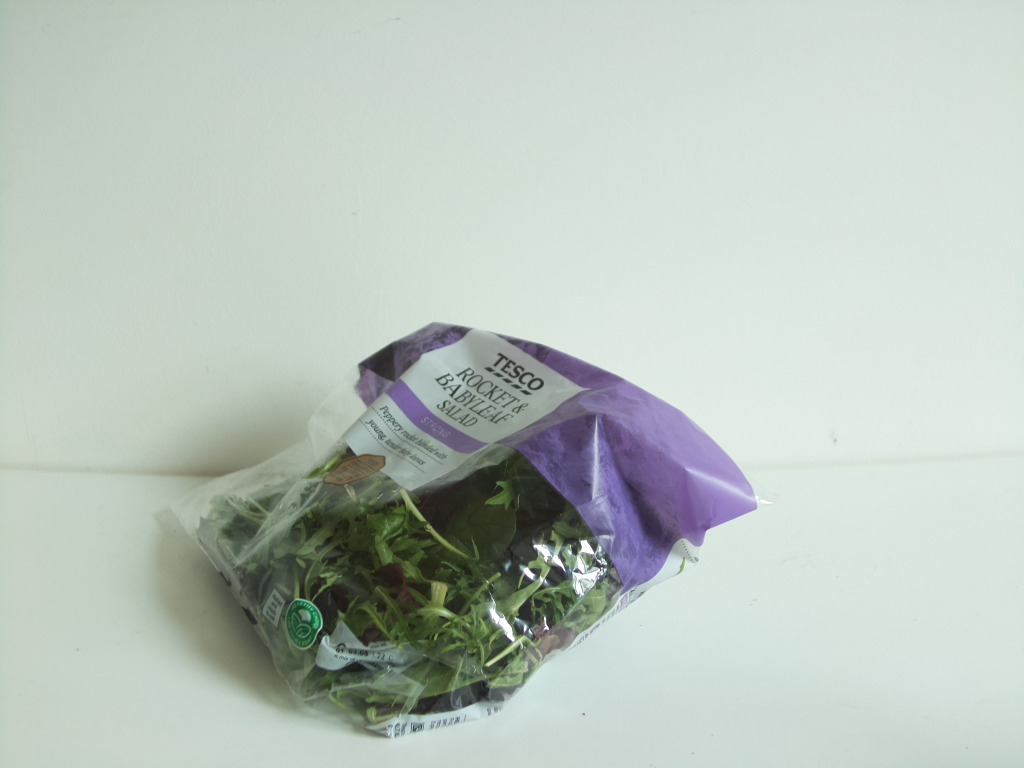salad: (210, 335, 768, 742)
